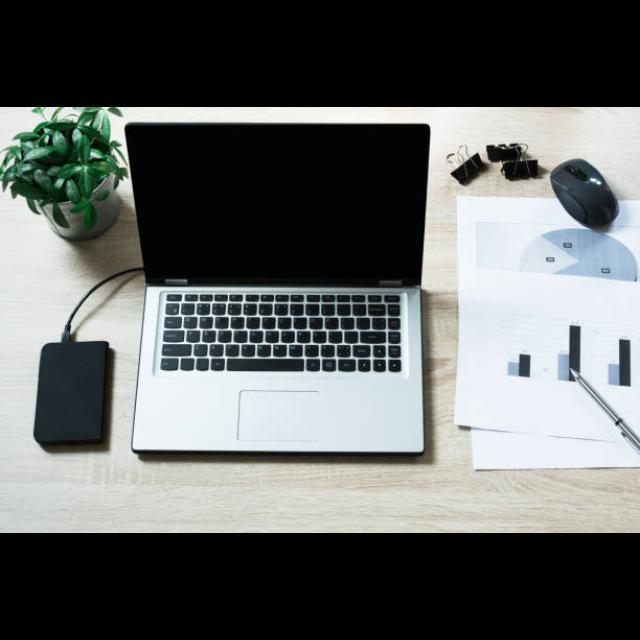HDD: (32, 340, 113, 453)
